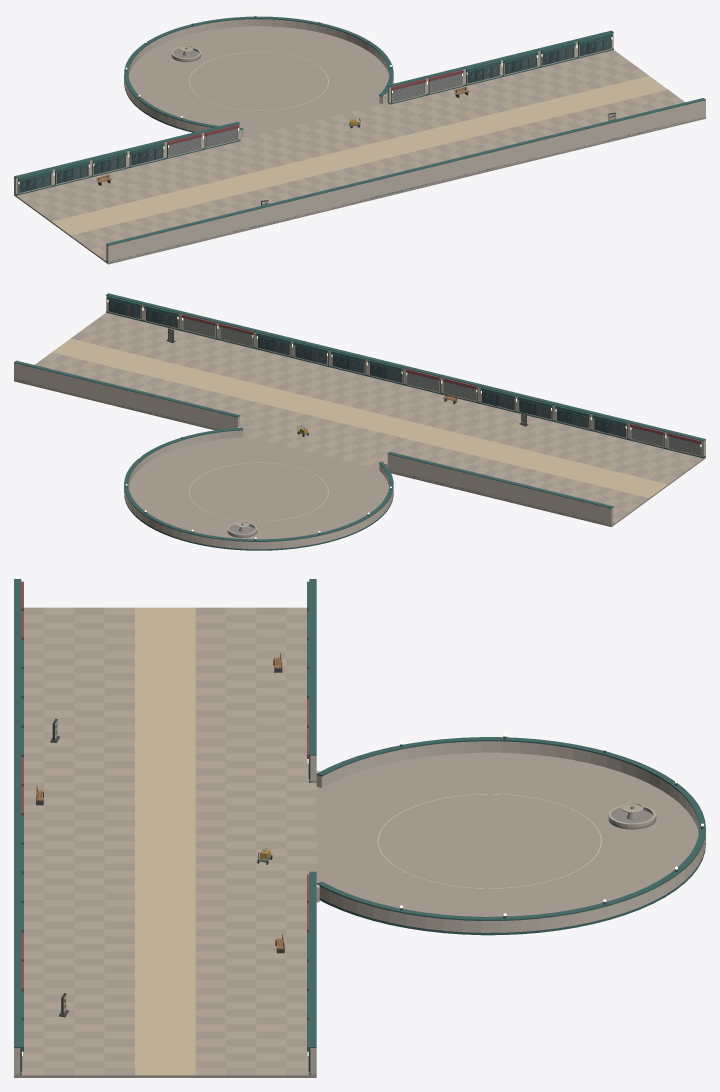
The model's file is mall.glb.
3 renders of one model, top to bottom at view 1: azimuth 30°, elevation 25°; view 2: azimuth 150°, elevation 25°; view 3: azimuth 270°, elevation 25°, orthographic. The views are drawn at different scales.
Visible parts, largest first — view 1: TC_Floor64 (×8), TC_Arena, TC_WallA (×9), TC_WallB (×5), TC_DryFountain; view 2: TC_Floor64 (×8), TC_Arena, TC_WallA (×9), TC_WallB (×5), TC_DryFountain; view 3: TC_Floor64 (×8), TC_Arena, TC_WallA (×2), TC_DryFountain, TC_WallB.
Boxes of the visible parts, box(x1,y1,x2,y2) form: TC_Floor64 (×8): box(14, 50, 705, 264); TC_Arena: box(124, 14, 393, 138); TC_WallA (×9): box(14, 30, 705, 244); TC_WallB (×5): box(106, 67, 631, 262); TC_DryFountain: box(171, 45, 201, 62); TC_Floor64 (×8): box(14, 313, 705, 526); TC_Arena: box(124, 427, 393, 550); TC_WallA (×9): box(14, 293, 630, 525); TC_WallB (×5): box(163, 311, 705, 489); TC_DryFountain: box(227, 521, 257, 537); TC_Floor64 (×8): box(14, 607, 316, 1077); TC_Arena: box(316, 734, 705, 935); TC_WallA (×2): box(14, 988, 316, 1075); TC_DryFountain: box(608, 802, 656, 829); TC_WallB: box(307, 696, 316, 782).
Size of the model in its own units: 512 by 15.7 by 320.
Materials: 2 (2 with a texture image).
